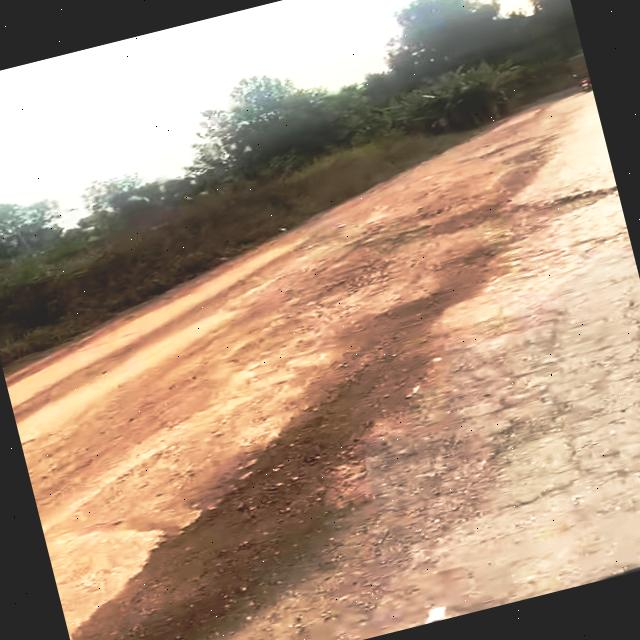pothole: (25, 365, 464, 640), (378, 268, 511, 328), (520, 180, 621, 230)
